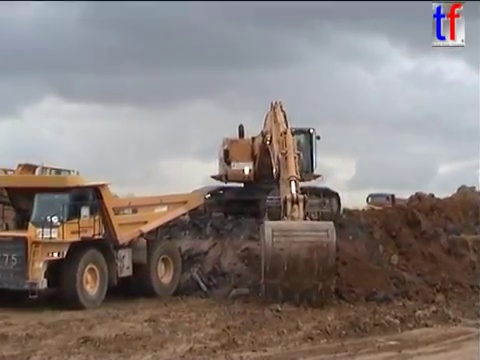excavator: (185, 97, 345, 306)
truck: (1, 173, 208, 312), (1, 160, 83, 214), (363, 191, 430, 222)
